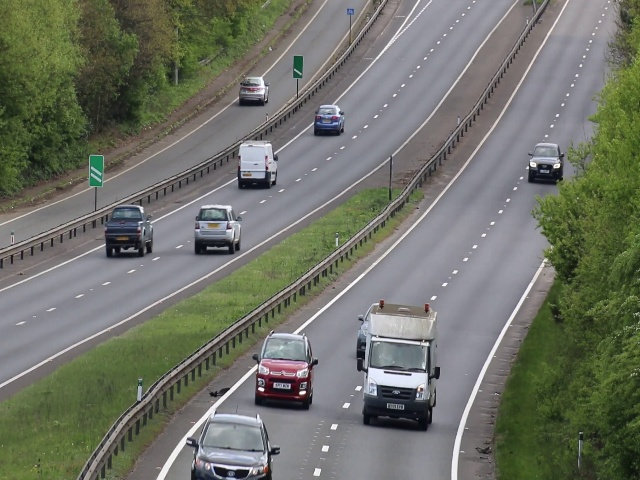car: (365, 310, 435, 431), (192, 404, 273, 480), (256, 330, 317, 403), (106, 204, 153, 259), (194, 202, 241, 253), (236, 139, 279, 187), (527, 140, 565, 187), (313, 103, 346, 135), (239, 73, 269, 107)
